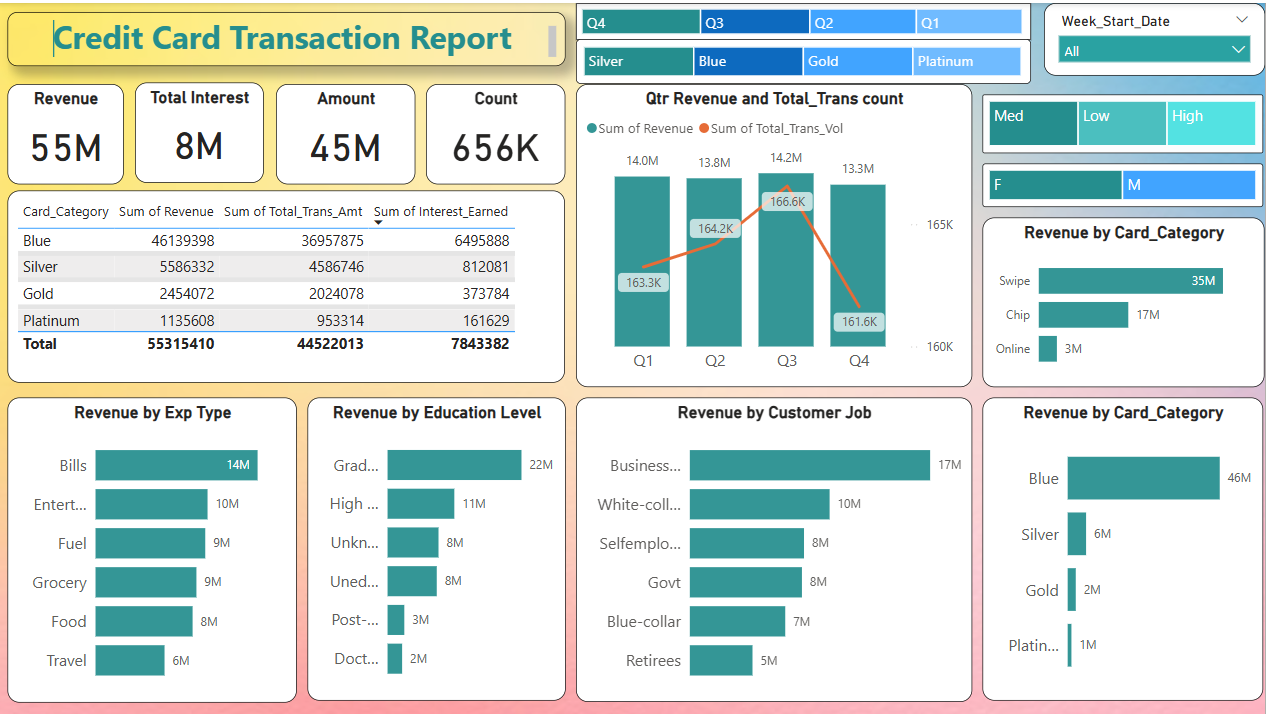

The dashboard page shown, as its layout file describes it:
{"tool":"powerbi","page":{"name":"Credit card Transaction","canvas":[1280,720],"ordinal":0},"visuals":[{"type":"textbox","box":[10.6,0,563.3,63.6],"z":0},{"type":"lineStackedColumnComboChart","title":"Qtr Revenue and Total_Trans count","fields":{"Category":["credit_card.Qtr"],"Y":["Sum(credit_card.Revenue)"],"Y2":["Sum(credit_card.Total_Trans_Vol)"]},"box":[584.8,81.8,400,306.1],"z":1000},{"type":"barChart","title":"Revenue by Exp Type","fields":{"Y":["Sum(credit_card.Revenue)"],"Category":["credit_card.Exp Type"]},"box":[10.9,398.4,292.2,307.8],"z":2000},{"type":"barChart","title":"Revenue by Education Level","fields":{"Y":["Sum(credit_card.Revenue)"],"Category":["customer.Education_Level"]},"box":[313.6,398.5,260.6,306.1],"z":3000},{"type":"barChart","title":"Revenue by Customer Job","fields":{"Y":["Sum(credit_card.Revenue)"],"Category":["customer.Customer_Job"]},"box":[584.8,398.5,400,307.6],"z":4000},{"type":"barChart","title":"Revenue by Card_Category","fields":{"Y":["Sum(credit_card.Revenue)"],"Category":["credit_card.Card_Category"]},"box":[995.5,398.5,283.3,306.1],"z":5000},{"type":"barChart","title":"Revenue by Card_Category","fields":{"Y":["Sum(credit_card.Revenue)"],"Category":["credit_card.Use Chip"]},"box":[995.5,216.7,284.8,171.2],"z":6000},{"type":"tableEx","fields":{"Values":["credit_card.Card_Category","Sum(credit_card.Revenue)","Sum(credit_card.Total_Trans_Amt)","Sum(credit_card.Interest_Earned)"]},"box":[10.9,189.1,562.5,193.8],"z":7000},{"type":"card","title":"Revenue","fields":{"Values":["Sum(credit_card.Revenue)"]},"box":[10.9,81.2,117,101],"z":8000},{"type":"card","title":"Total Interest","fields":{"Values":["Sum(credit_card.Interest_Earned)"]},"box":[139.1,79.7,129.7,101.6],"z":9000},{"type":"card","title":"Amount","fields":{"Values":["Sum(credit_card.Total_Trans_Amt)"]},"box":[281.2,81.2,140.6,101.6],"z":10000},{"type":"card","title":"Count","fields":{"Values":["Sum(credit_card.Total_Trans_Vol)"]},"box":[432.8,81.2,140.6,101.6],"z":11000},{"type":"slicer","fields":{"Values":["credit_card.Week_Start_Date"]},"box":[1056.2,0,223.4,73.4],"z":12000},{"type":"treemap","fields":{"Group":["credit_card.Qtr"],"Values":["Avg(credit_card.Client_Num)"]},"box":[584.4,0,459.4,37.5],"z":13000},{"type":"treemap","fields":{"Values":["Avg(credit_card.Client_Num)"],"Group":["credit_card.Card_Category"]},"box":[584.8,36.4,459.1,45.5],"z":14000},{"type":"treemap","fields":{"Values":["Avg(credit_card.Client_Num)"],"Group":["customer.IncomeGroup"]},"box":[995.5,92.4,283.3,59.1],"z":15000},{"type":"treemap","fields":{"Values":["Avg(credit_card.Client_Num)"],"Group":["customer.Gender"]},"box":[995.5,162.1,283.3,43.9],"z":16000}]}

Visuals, with their boxes in screenshot pixels (x1, y1, x2, y2), scaled from the page's 1280x720 canvas onto the 1266x714 screenshot:
textbox: 10/0/568/63
"Qtr Revenue and Total_Trans count" lineStackedColumnComboChart: 578/81/974/385
"Revenue by Exp Type" barChart: 11/395/300/700
"Revenue by Education Level" barChart: 310/395/568/699
"Revenue by Customer Job" barChart: 578/395/974/700
"Revenue by Card_Category" barChart: 985/395/1265/699
"Revenue by Card_Category" barChart: 985/215/1265/385
tableEx - credit_card.Card_Category x Sum(credit_card.Revenue): 11/188/567/380
"Revenue" card: 11/81/127/181
"Total Interest" card: 138/79/266/180
"Amount" card: 278/81/417/181
"Count" card: 428/81/567/181
slicer - credit_card.Week_Start_Date: 1045/0/1265/73
treemap - credit_card.Qtr x Avg(credit_card.Client_Num): 578/0/1032/37
treemap - Avg(credit_card.Client_Num) x credit_card.Card_Category: 578/36/1032/81
treemap - Avg(credit_card.Client_Num) x customer.IncomeGroup: 985/92/1265/150
treemap - Avg(credit_card.Client_Num) x customer.Gender: 985/161/1265/204
